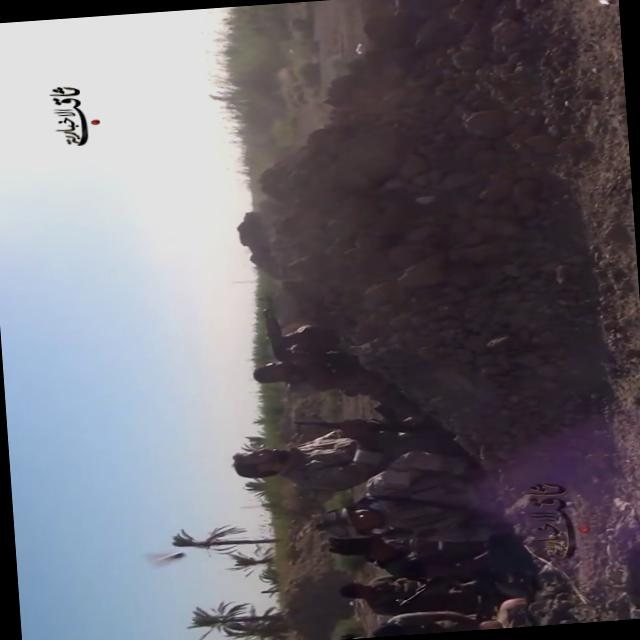long weapon: (293, 400, 440, 466), (263, 294, 323, 380)
